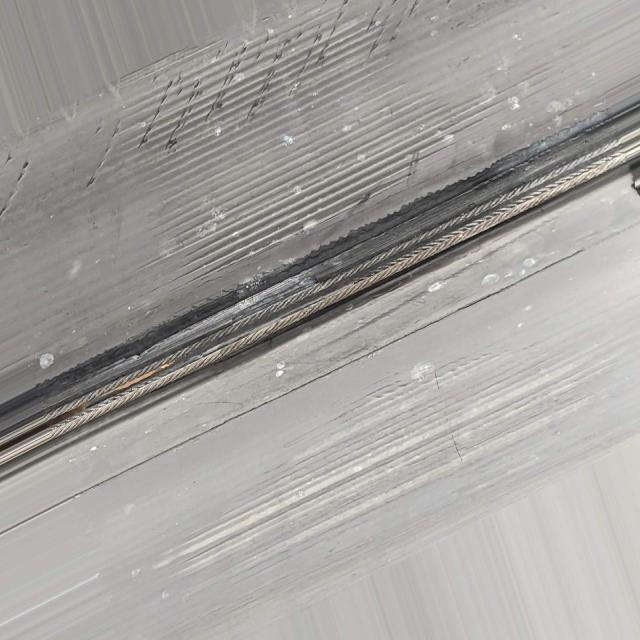Tear: (39, 0, 480, 213)
impact damage: (34, 95, 640, 445), (146, 82, 512, 295)
